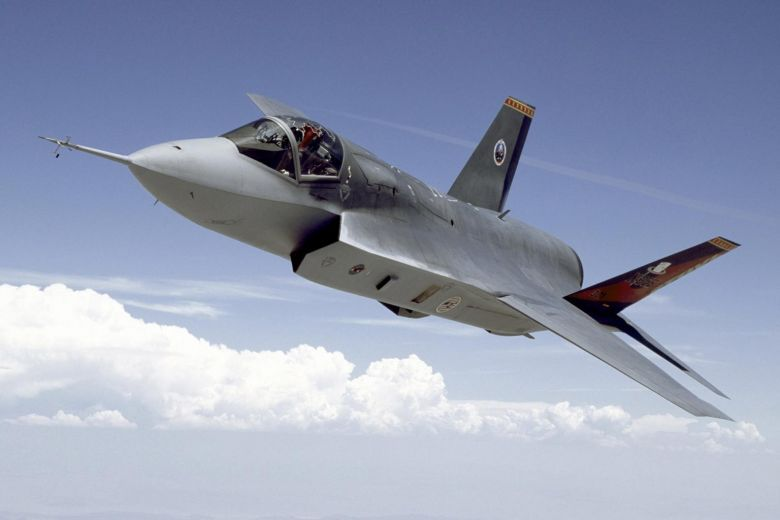F-35 Lightning: (29, 67, 754, 448)
